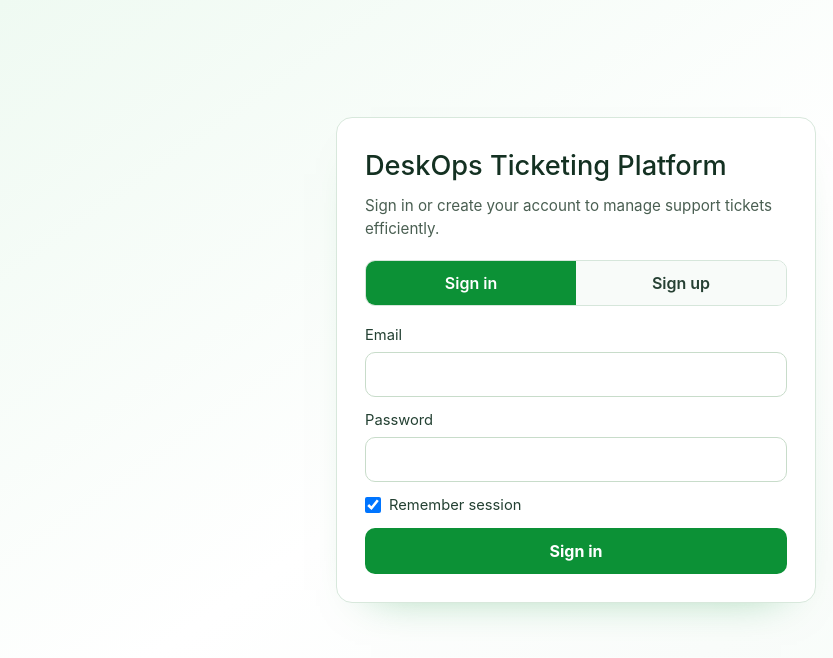
Test case: AUTH-02 Invalid login › shows error feedback and keeps the user on login
This screenshot has width=833, height=658.
Type "user@test.com" into the field labelled "Email" at {"x": 576, "y": 375}, box top-left (365, 352), bottom-right (787, 397)
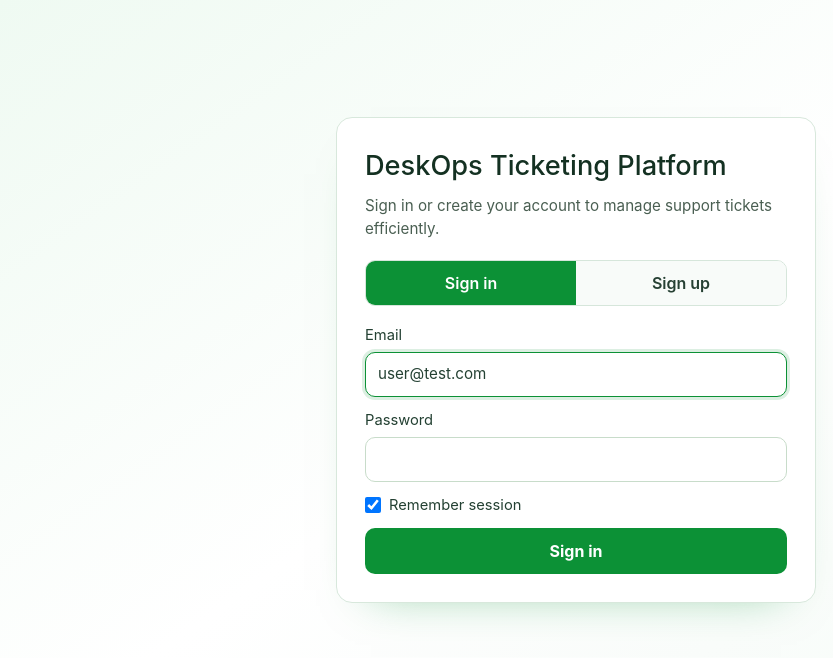
Type "wrong-pass" into the password field labelled "Password" at {"x": 576, "y": 460}, box top-left (365, 437), bottom-right (787, 482)
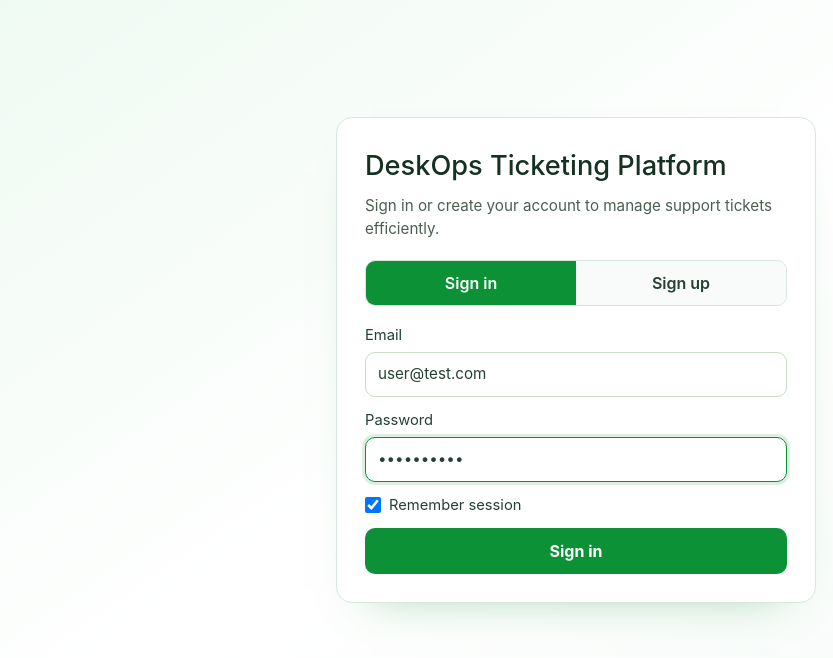
Click the button "Sign in" below "Remember session" at {"x": 576, "y": 551}, box top-left (365, 528), bottom-right (787, 574)
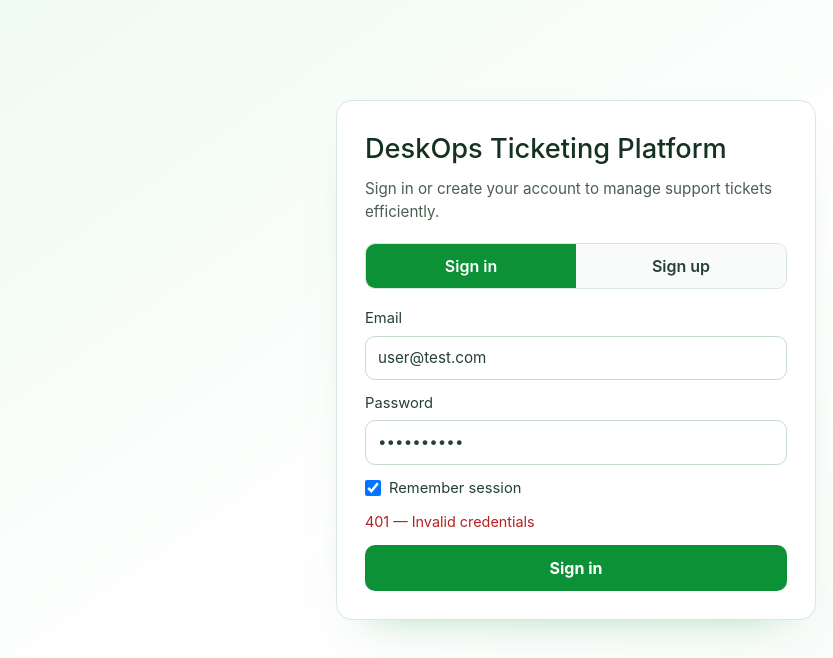
Check: the button "Sign in" below "401 — Invalid credentials" is enabled, box top-left (365, 545), bottom-right (787, 591)
Check: the text "401 — Invalid credentials" is shown, box top-left (365, 513), bottom-right (535, 530)
